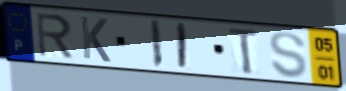I: (148, 18, 165, 70), (176, 21, 189, 71)
K: (78, 14, 113, 64)
R: (34, 11, 76, 60)
S: (268, 30, 310, 80)
T: (226, 26, 260, 77)
